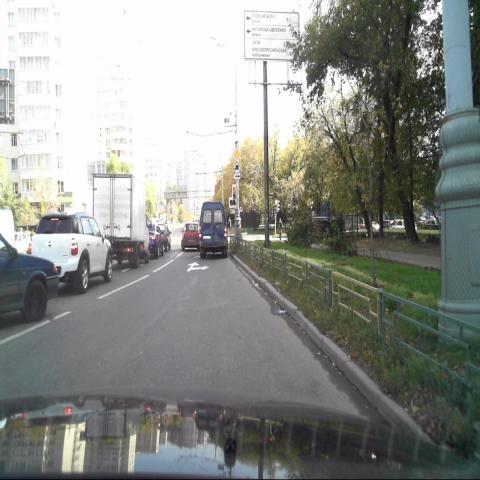2_1: (233, 146, 241, 162)
3_4_1: (234, 163, 241, 173)
